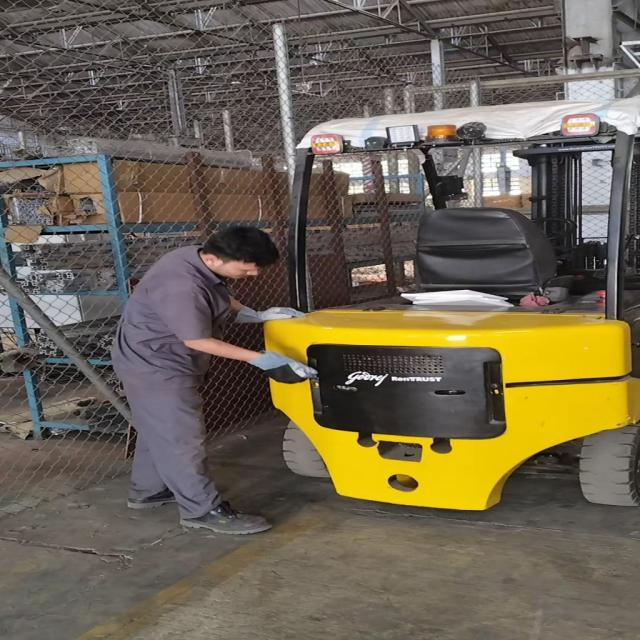Gloves-Detection: (249, 349, 318, 386), (232, 305, 298, 333)
